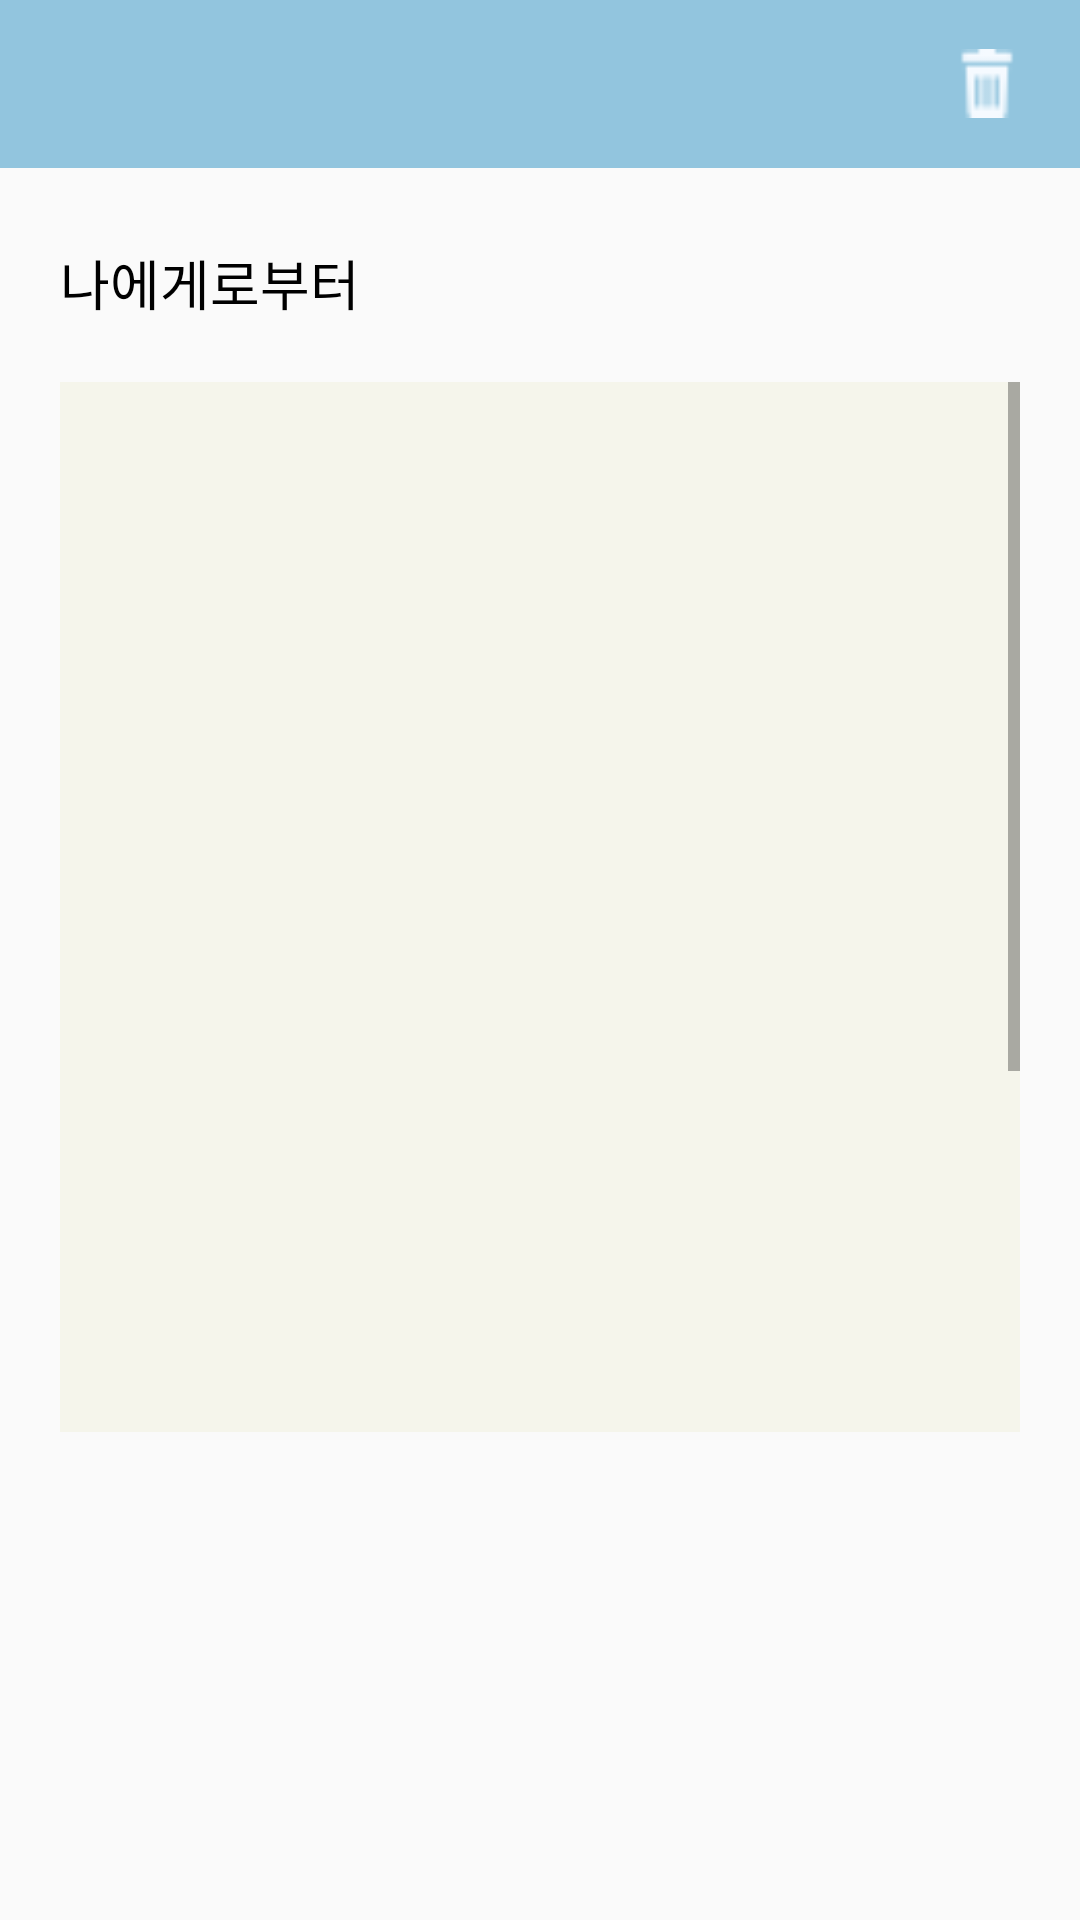

Screen size 1080px×1920px. Icon name, then its box in pixels as (x1, y1, x2, y2):
garbage: (961, 49, 1013, 118)
